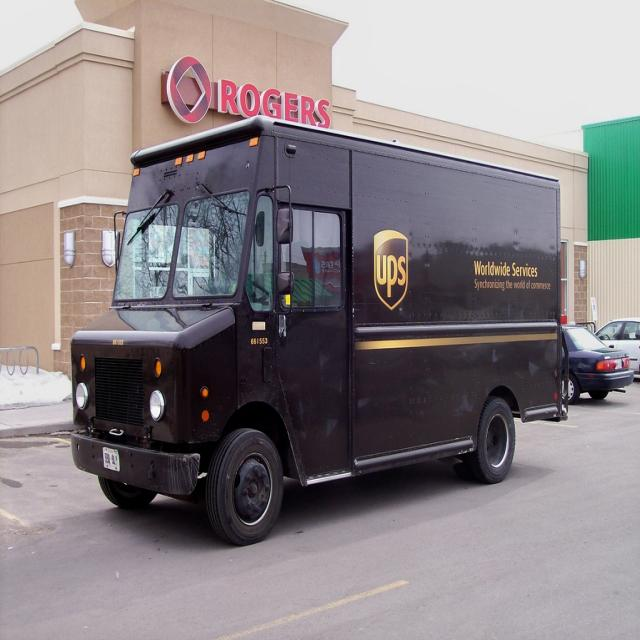ups: (375, 228, 410, 311)
